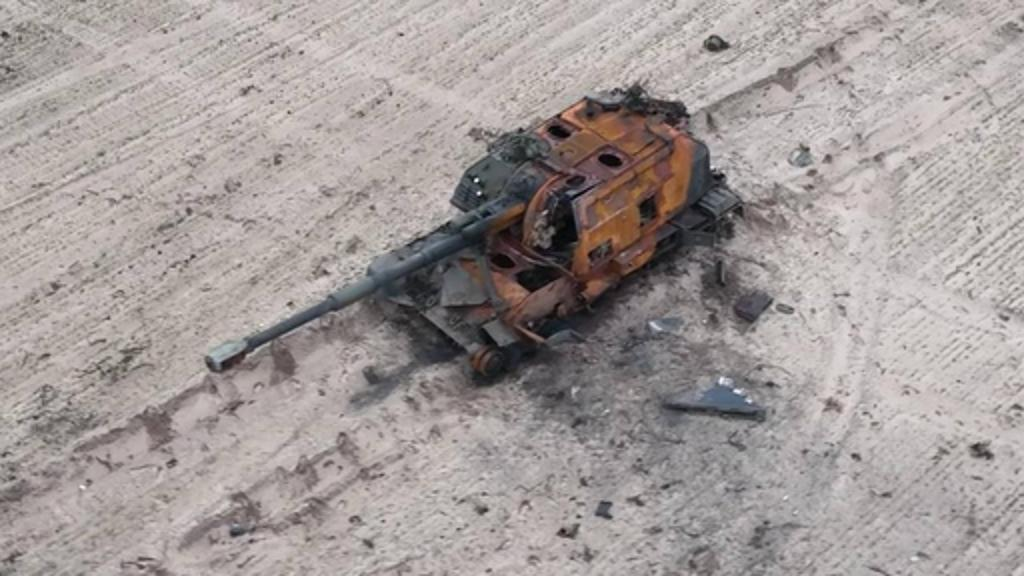ART: (200, 72, 740, 428)
